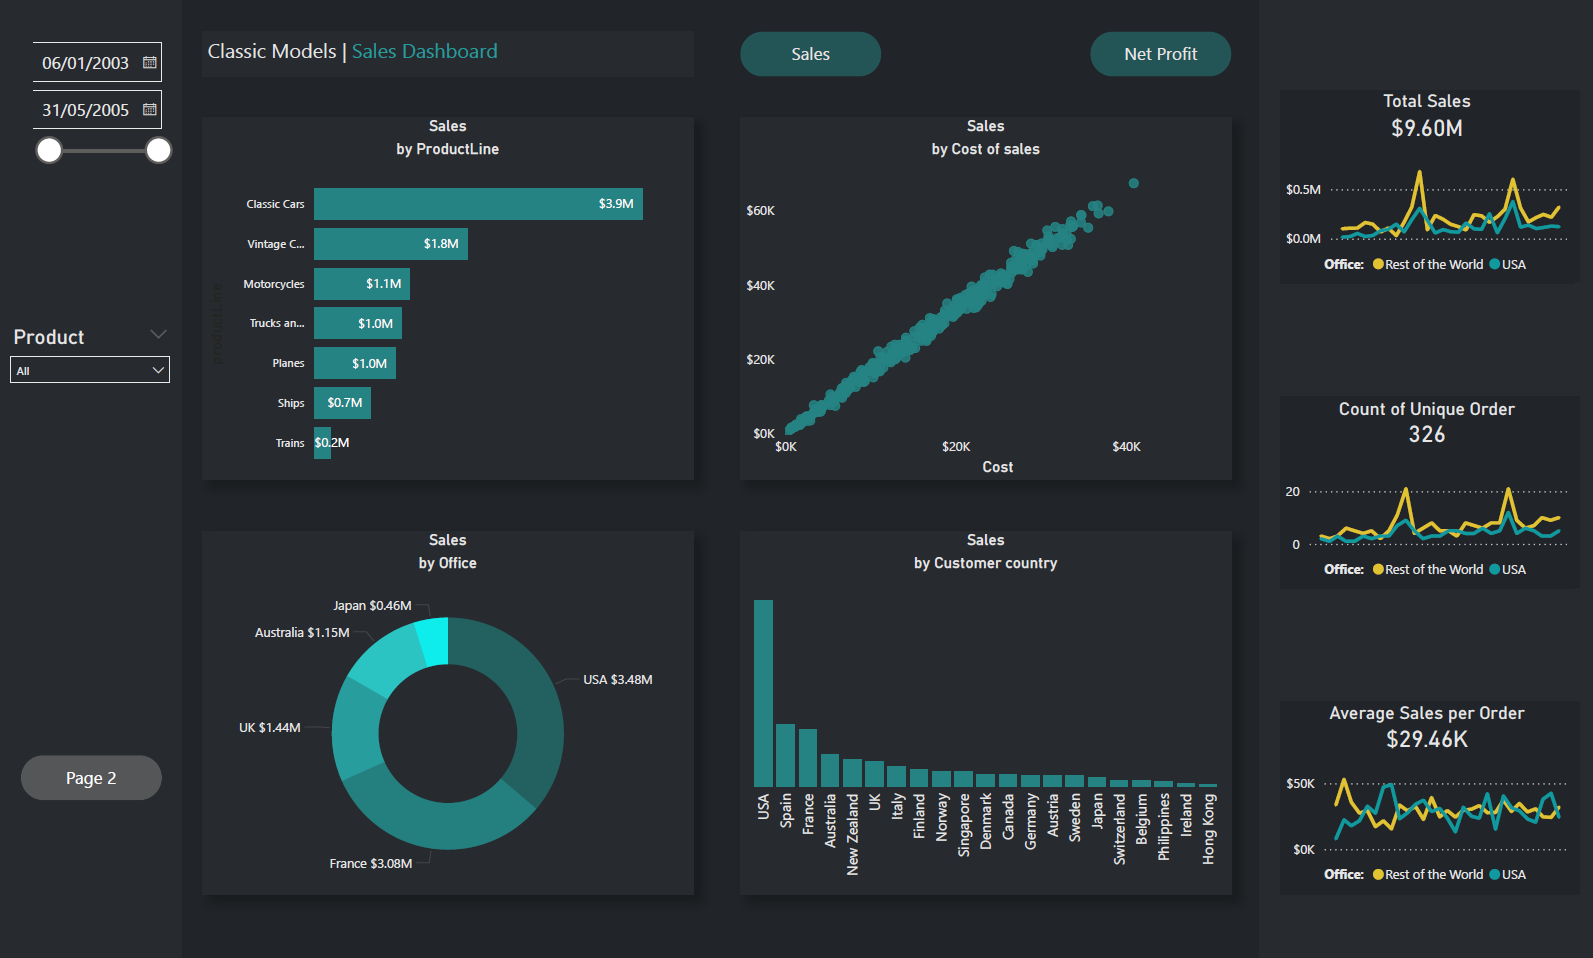

What the dashboard file says about the page in this screenshot:
{"tool":"powerbi","page":{"name":"Sales Overview - Page 1","canvas":[1500,900],"ordinal":0},"visuals":[{"type":"shape","box":[0,0,170,900],"z":0},{"type":"shape","box":[1180,0,319.4,899.7],"z":1000},{"type":"shape","box":[1199.5,85.2,280.4,179.2],"z":2000},{"type":"shape","box":[1199.5,371.7,280.4,179.2],"z":3000},{"type":"shape","box":[1199.5,658.3,280.4,179.2],"z":4000},{"type":"card","title":"Total Sales","fields":{"Values":["Sum(classicmodels sales_data_for_power_bi.sales_value)"]},"box":[1199.5,85.2,275,49.7],"z":5000},{"type":"card","title":"Count of Unique Order","fields":{"Values":["Count(classicmodels sales_data_for_power_bi.orderNumber)"]},"box":[1199.5,372.6,275,49.7],"z":6000},{"type":"card","title":"Average Sales per Order","fields":{"Values":["classicmodels sales_data_for_power_bi.Average Salesvalue per order"]},"box":[1199.5,658.3,275,49.7],"z":7000},{"type":"lineChart","fields":{"Y":["Sum(classicmodels sales_data_for_power_bi.sales_value)"],"Category":["classicmodels sales_data_for_power_bi.orderdate.Variation.Date Hierarchy.Year","classicmodels sales_data_for_power_bi.orderdate.Variation.Date Hierarchy.Quarter","classicmodels sales_data_for_power_bi.orderdate.Variation.Date Hierarchy.Month"],"Series":["classicmodels sales_data_for_power_bi.Office Grouped"]},"box":[1200,136,276,130],"z":8000},{"type":"lineChart","fields":{"Category":["classicmodels sales_data_for_power_bi.orderdate.Variation.Date Hierarchy.Year","classicmodels sales_data_for_power_bi.orderdate.Variation.Date Hierarchy.Quarter","classicmodels sales_data_for_power_bi.orderdate.Variation.Date Hierarchy.Month"],"Series":["classicmodels sales_data_for_power_bi.Office Grouped"],"Y":["Count(classicmodels sales_data_for_power_bi.orderNumber)"]},"box":[1200,422,276,130],"z":9000},{"type":"lineChart","fields":{"Category":["classicmodels sales_data_for_power_bi.orderdate.Variation.Date Hierarchy.Year","classicmodels sales_data_for_power_bi.orderdate.Variation.Date Hierarchy.Quarter","classicmodels sales_data_for_power_bi.orderdate.Variation.Date Hierarchy.Month"],"Series":["classicmodels sales_data_for_power_bi.Office Grouped"],"Y":["classicmodels sales_data_for_power_bi.Average Salesvalue per order"]},"box":[1200,708,276,130],"z":10000},{"type":"barChart","fields":{"Category":["classicmodels sales_data_for_power_bi.productLine"],"Y":["Table.Selected Metric"]},"box":[190,110,460,340],"z":11000},{"type":"actionButton","box":[694,30,132,42],"z":13000},{"type":"actionButton","box":[1022,30,132,42],"z":14000},{"type":"scatterChart","fields":{"Y":["Table.Selected Metric"],"X":["Sum(classicmodels sales_data_for_power_bi.cost_of_sales)"],"Category":["classicmodels sales_data_for_power_bi.orderNumber"]},"box":[694,110,460,340],"z":15000},{"type":"donutChart","fields":{"Y":["Table.Selected Metric"],"Category":["classicmodels sales_data_for_power_bi.office_country"]},"box":[190,498,460,340],"z":16000},{"type":"columnChart","fields":{"Y":["Table.Selected Metric"],"Category":["classicmodels sales_data_for_power_bi.customer_country"]},"box":[694,498,460,340],"z":17000},{"type":"textbox","box":[190,30,460,42],"z":18000},{"type":"actionButton","box":[20,708,132,42],"z":19000},{"type":"slicer","fields":{"Values":["classicmodels sales_data_for_power_bi.orderdate"]},"box":[18,30,152,144],"z":19001},{"type":"slicer","fields":{"Values":["classicmodels sales_data_for_power_bi.productName"]},"box":[0,300,170,188],"z":19002}]}

Visuals, with their boxes on the page's 1500x900 design canvas (x1, y1, x2, y2). These are canvas units, not pixel positions in the 1593x958 screenshot, which may show the page scaled, cropped or inside an application window:
shape: box=[0, 0, 170, 900]
shape: box=[1180, 0, 1499, 900]
shape: box=[1200, 85, 1480, 264]
shape: box=[1200, 372, 1480, 551]
shape: box=[1200, 658, 1480, 838]
"Total Sales" card: box=[1200, 85, 1474, 135]
"Count of Unique Order" card: box=[1200, 373, 1474, 422]
"Average Sales per Order" card: box=[1200, 658, 1474, 708]
lineChart - Sum(classicmodels sales_data_for_power_bi.sales_value) x classicmodels sales_data_for_power_bi.orderdate.Variation.Date Hierarchy.Year: box=[1200, 136, 1476, 266]
lineChart - classicmodels sales_data_for_power_bi.orderdate.Variation.Date Hierarchy.Year x classicmodels sales_data_for_power_bi.orderdate.Variation.Date Hierarchy.Quarter: box=[1200, 422, 1476, 552]
lineChart - classicmodels sales_data_for_power_bi.orderdate.Variation.Date Hierarchy.Year x classicmodels sales_data_for_power_bi.orderdate.Variation.Date Hierarchy.Quarter: box=[1200, 708, 1476, 838]
barChart - classicmodels sales_data_for_power_bi.productLine x Table.Selected Metric: box=[190, 110, 650, 450]
actionButton: box=[694, 30, 826, 72]
actionButton: box=[1022, 30, 1154, 72]
scatterChart - Table.Selected Metric x Sum(classicmodels sales_data_for_power_bi.cost_of_sales): box=[694, 110, 1154, 450]
donutChart - Table.Selected Metric x classicmodels sales_data_for_power_bi.office_country: box=[190, 498, 650, 838]
columnChart - Table.Selected Metric x classicmodels sales_data_for_power_bi.customer_country: box=[694, 498, 1154, 838]
textbox: box=[190, 30, 650, 72]
actionButton: box=[20, 708, 152, 750]
slicer - classicmodels sales_data_for_power_bi.orderdate: box=[18, 30, 170, 174]
slicer - classicmodels sales_data_for_power_bi.productName: box=[0, 300, 170, 488]
